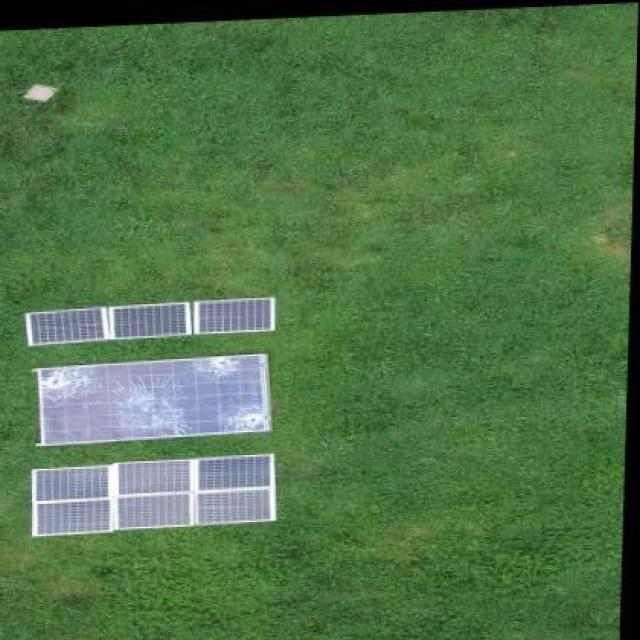cracked: (32, 354, 274, 449)
